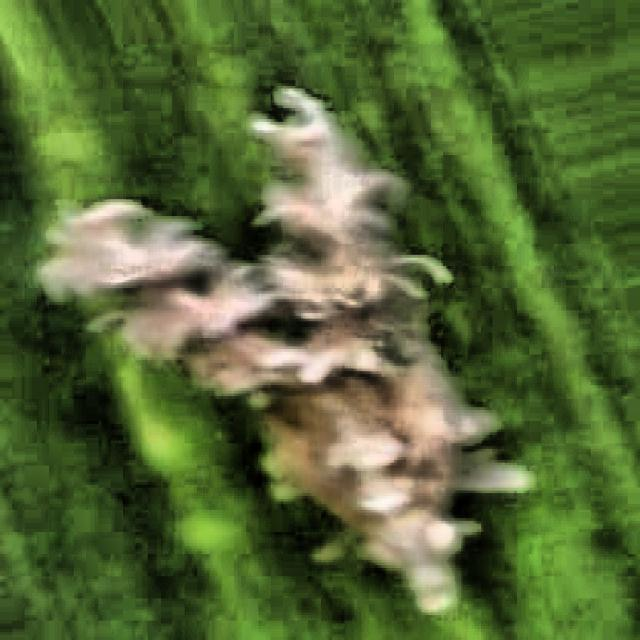Pyrilla-perpusilla: (53, 65, 488, 627)
